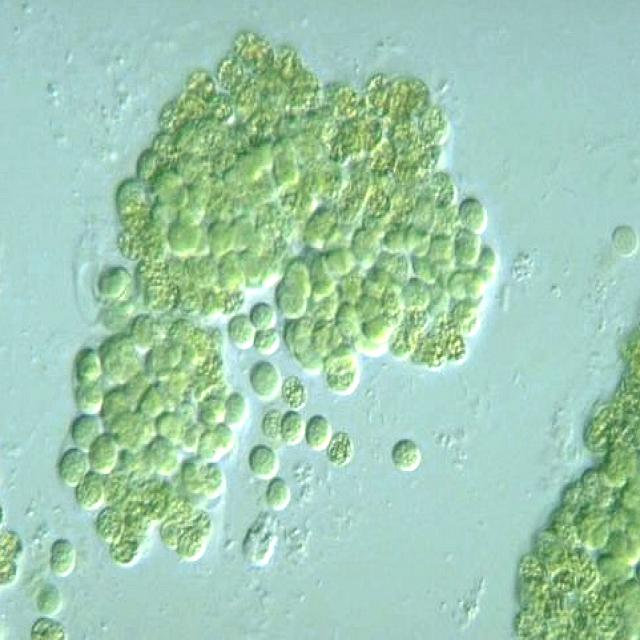Blue Green Algae: (323, 354, 358, 395), (165, 216, 200, 256), (71, 412, 105, 452), (150, 436, 182, 476), (250, 357, 281, 398), (275, 278, 306, 319), (57, 447, 91, 484), (96, 265, 129, 302), (68, 381, 105, 414), (350, 224, 379, 266), (114, 174, 145, 213), (86, 432, 116, 472), (71, 474, 105, 509), (613, 218, 640, 262), (450, 299, 483, 335), (73, 344, 105, 381), (450, 228, 480, 267), (458, 196, 490, 232), (198, 462, 228, 499), (178, 526, 206, 564), (390, 440, 423, 472), (186, 65, 213, 103), (281, 411, 307, 450), (582, 414, 610, 450), (387, 321, 413, 359), (228, 310, 254, 348), (208, 218, 234, 256), (94, 507, 122, 542), (250, 446, 280, 478), (36, 578, 62, 614), (412, 253, 442, 284), (197, 394, 227, 425), (247, 299, 277, 330), (132, 313, 154, 355), (154, 409, 180, 444), (335, 300, 361, 335), (329, 430, 354, 466), (221, 390, 246, 425), (402, 275, 428, 308), (264, 477, 290, 509), (325, 245, 351, 276), (261, 406, 282, 443), (306, 416, 331, 447), (282, 373, 307, 404), (406, 224, 428, 256), (215, 419, 233, 452), (50, 537, 74, 561)
